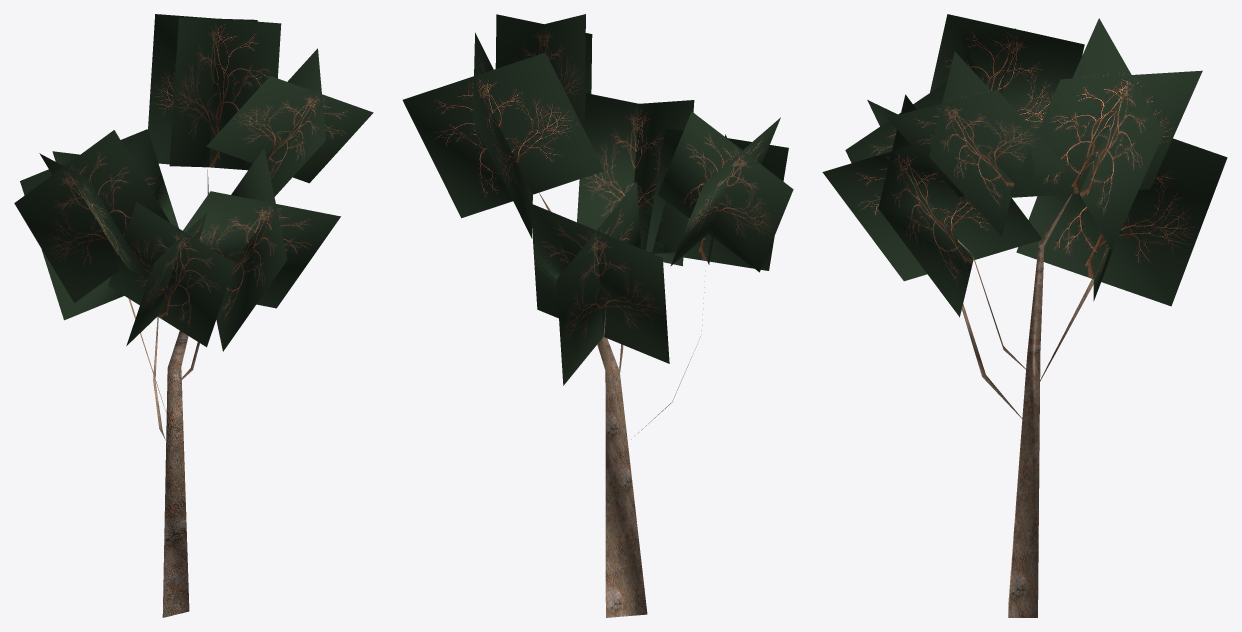
File: decd_ginkgotreebranches_a2_l2.fbx
3 views of the same model, side by side, from view 1: azimuth 30°, elevation 25°; view 2: azimuth 150°, elevation 25°; view 3: azimuth 270°, elevation 25° (orthographic). The views are drawn at different scales.
Visible parts, largest first — view 1: mesh_node; view 2: mesh_node; view 3: mesh_node.
Part boxes in pixels (left/top/right/bottom): mesh_node: left=14, top=14, right=373, bottom=617; mesh_node: left=402, top=14, right=793, bottom=617; mesh_node: left=822, top=14, right=1227, bottom=617.
Bounding box in the file's own units: 1.87 × 3.1 × 1.85.
Materials: 2 (2 with a texture image).
